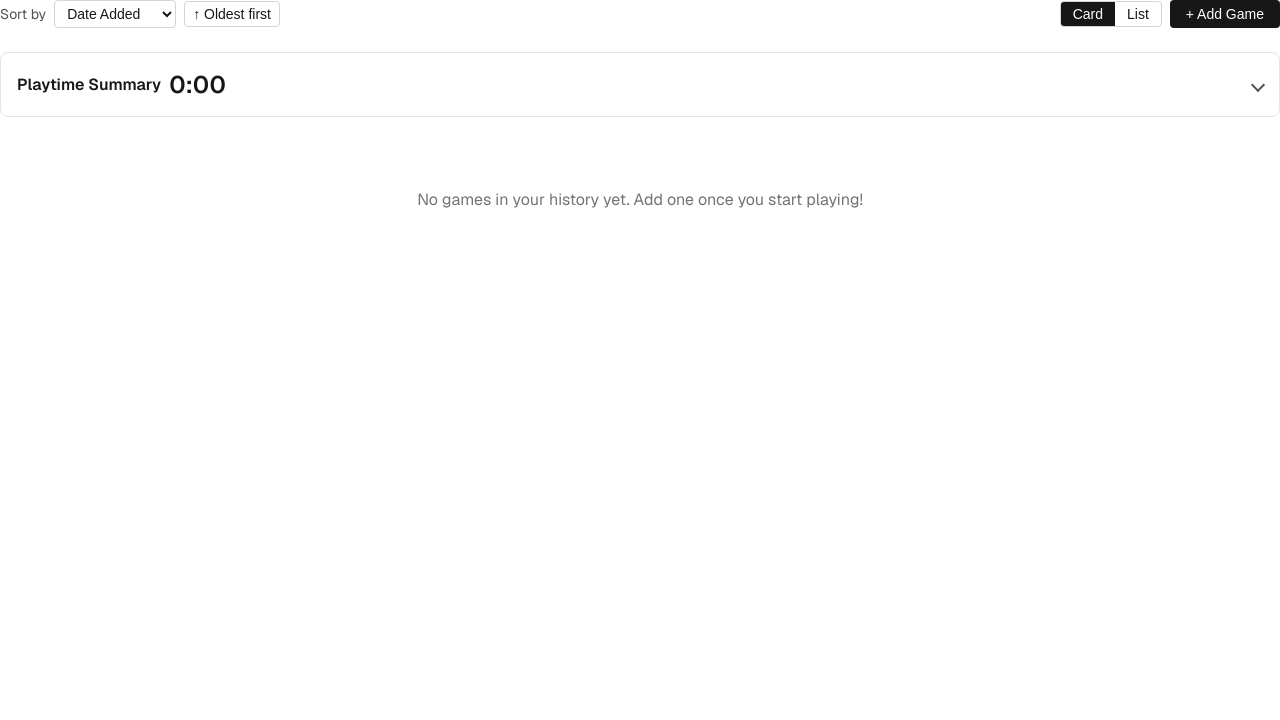
Test: HistoryClient › adds a new entry via the Add Entry modal and POSTs it to the API
Click the button "+ Add Game". click: (1225, 14)
box: 1170,0 -> 1279,28
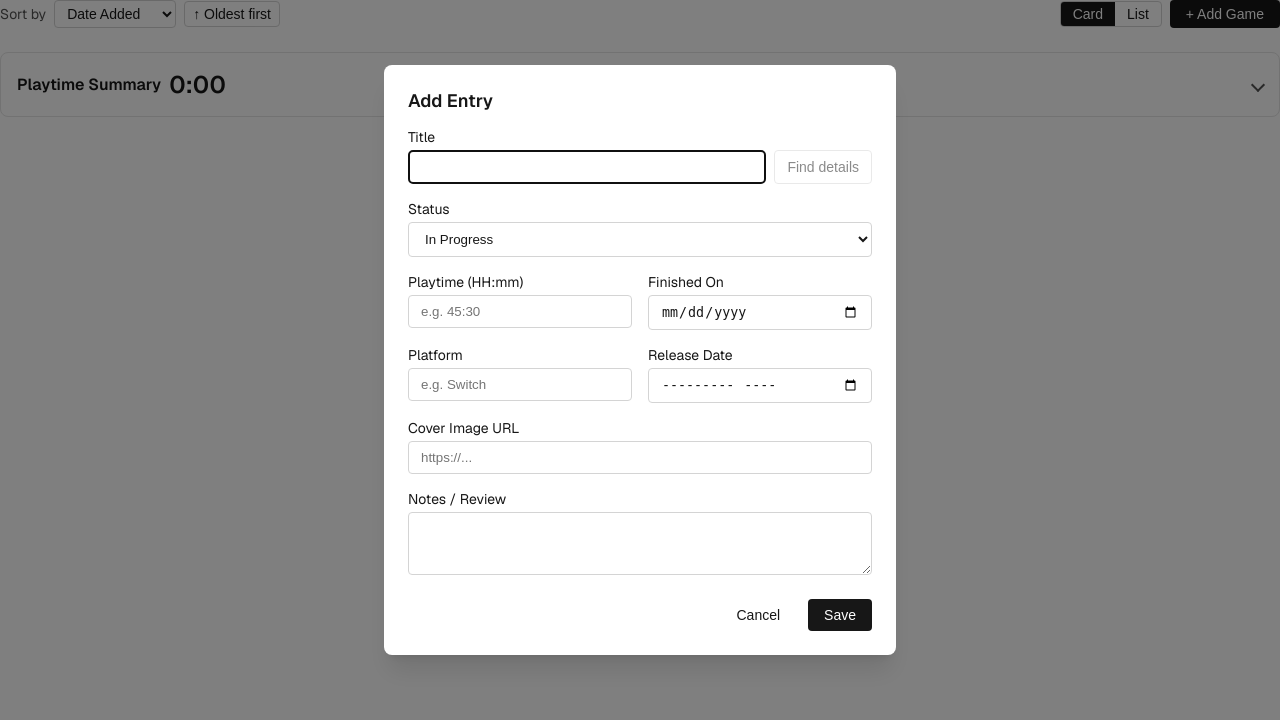
Type "Celeste" into the field labelled "Title". click: (587, 167)
box: 408,150 -> 766,184
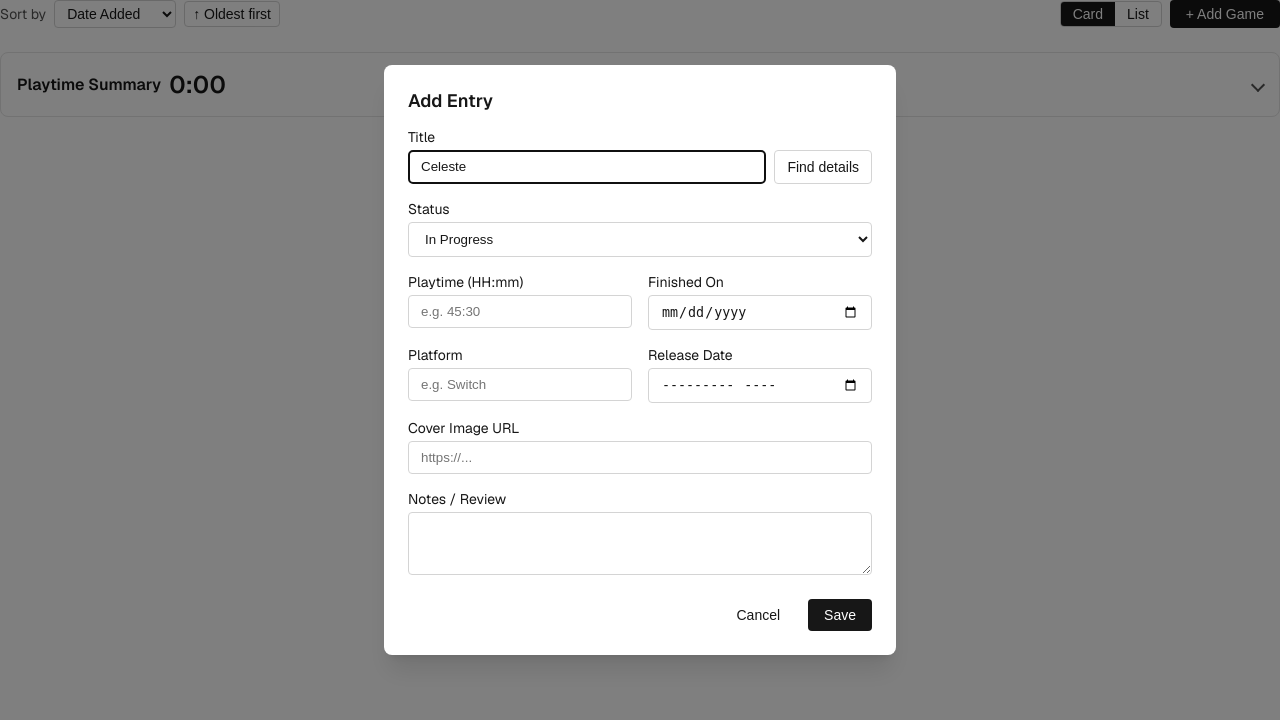
Click the button "Save". click: (840, 615)
box: 808,599 -> 872,631
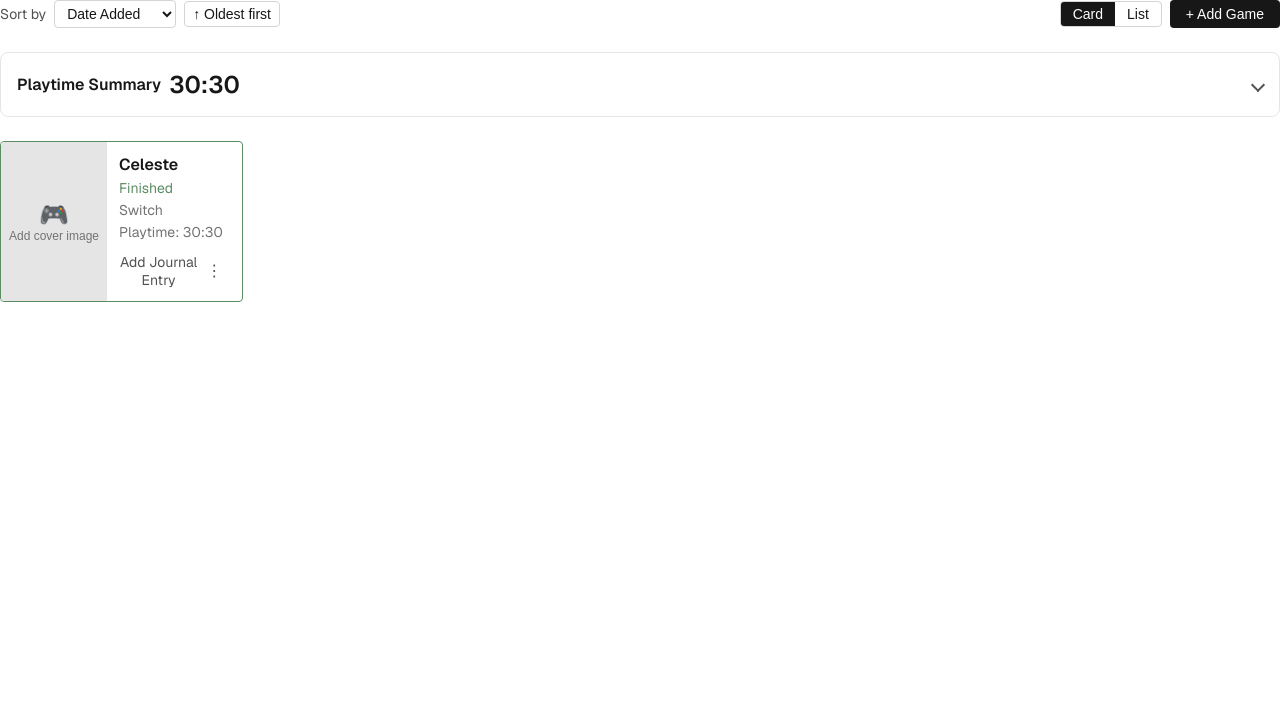
expect the text "Celeste" is shown: met, box 119,154 -> 178,175
